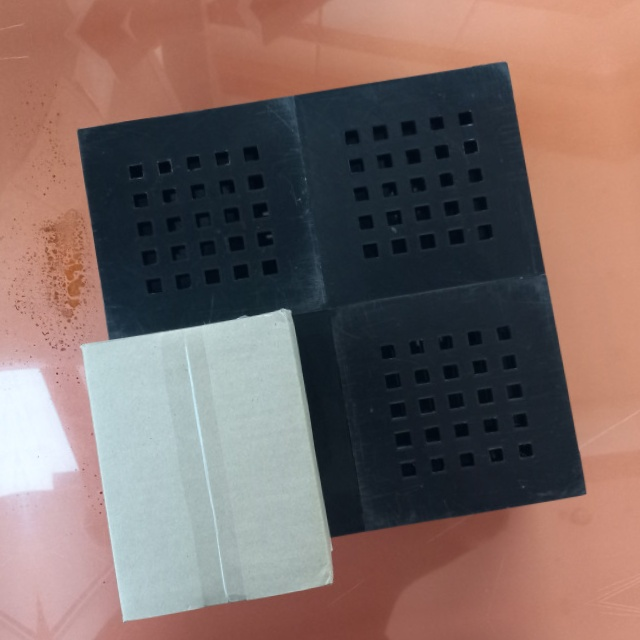box: (79, 310, 334, 626)
pallet: (27, 37, 597, 584)
